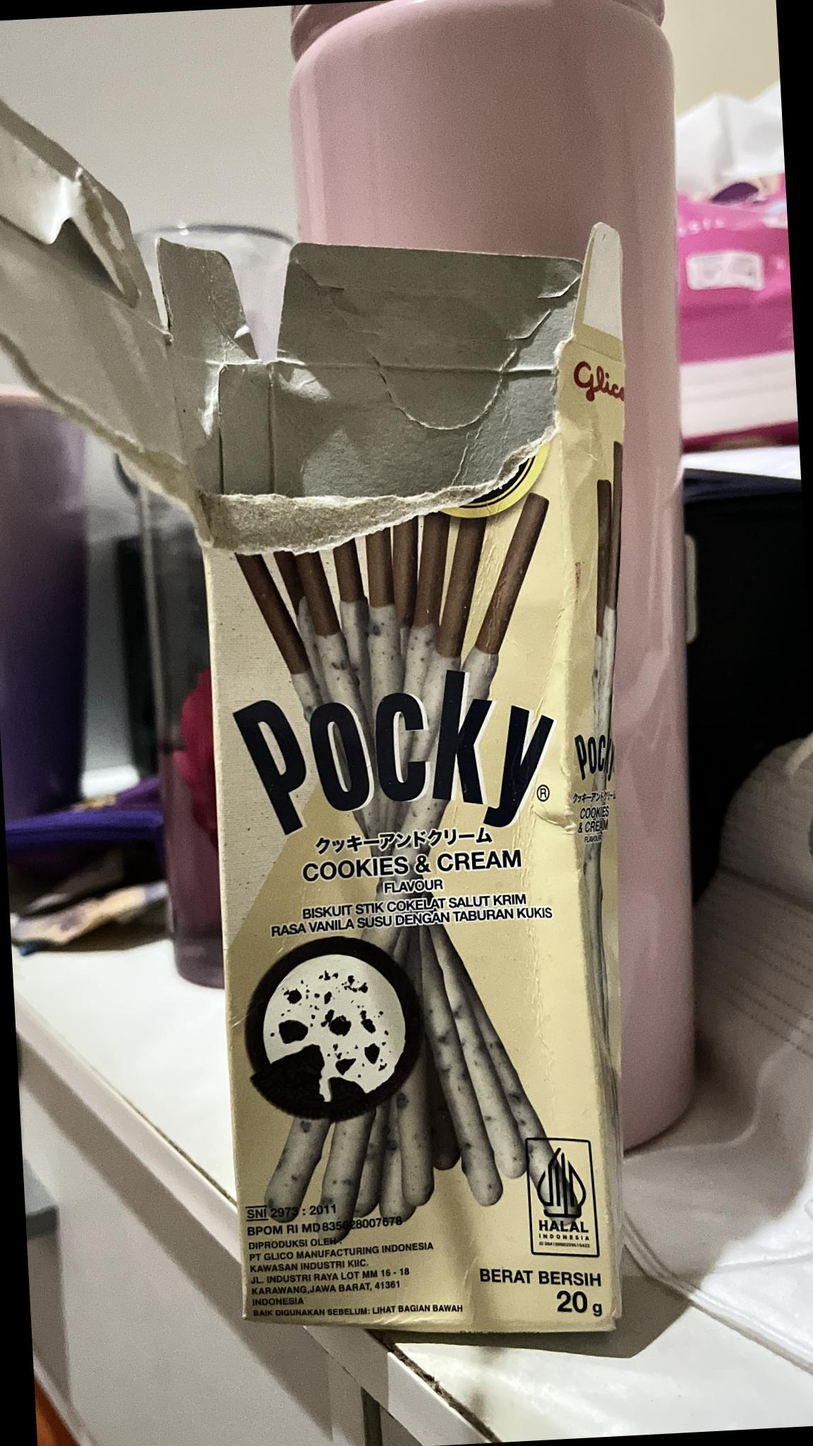Kertas: (210, 354, 638, 1334)
